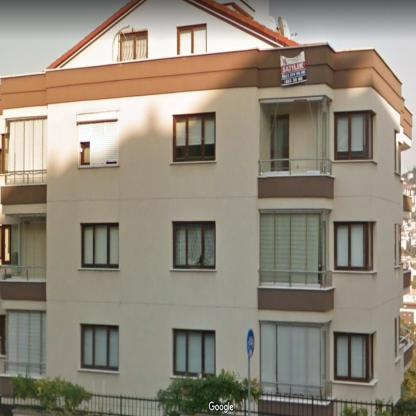door: (271, 115, 289, 170)
window: (260, 213, 330, 284), (260, 322, 321, 396), (6, 116, 47, 185), (5, 311, 46, 373), (12, 215, 46, 279), (173, 112, 215, 162), (334, 332, 373, 382), (173, 222, 215, 268), (78, 121, 119, 168), (334, 223, 374, 271), (174, 329, 214, 377), (334, 112, 373, 160), (82, 324, 118, 370), (82, 224, 118, 268), (178, 24, 206, 54), (121, 31, 148, 61), (2, 226, 10, 263)
